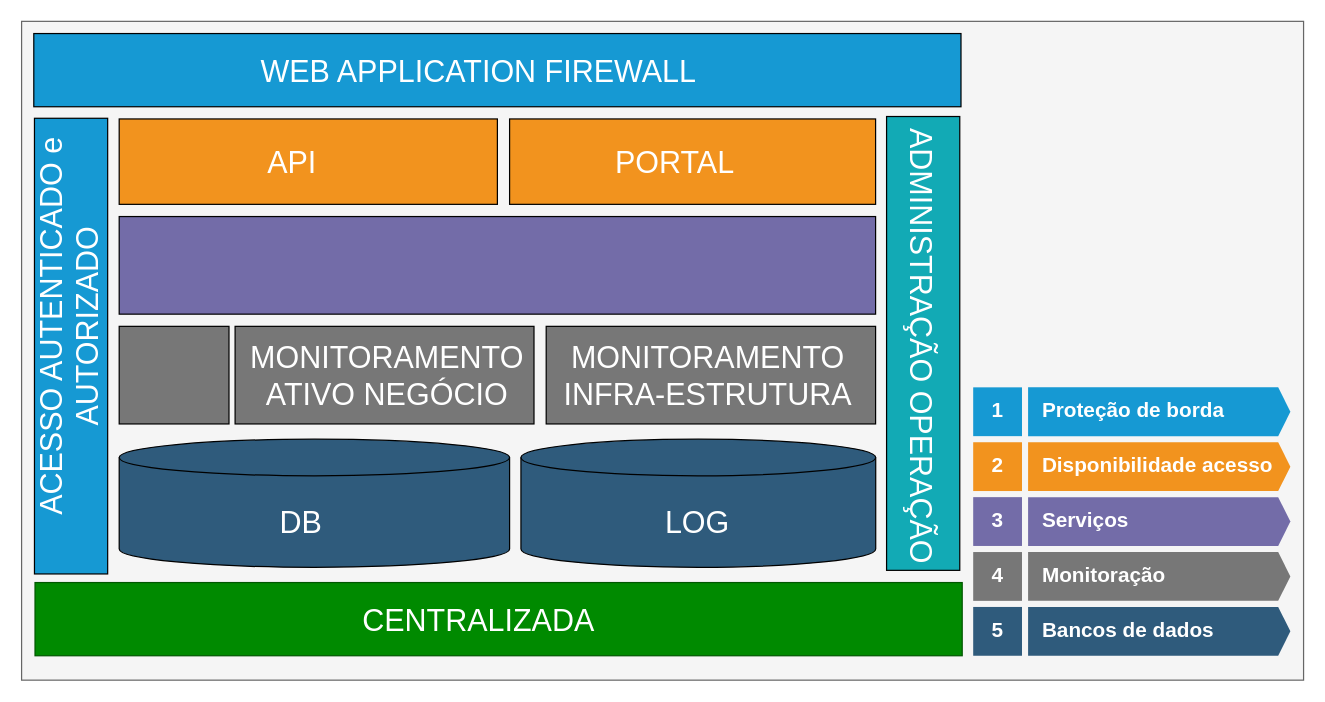
Some shapes in this 1325 by 702 pixel diagram are drawn without their labels. Each missing label, with the centre of its shape:
HCM: (173,374)
SERVIÇO DE PROCESSAMENTO: (497,264)
